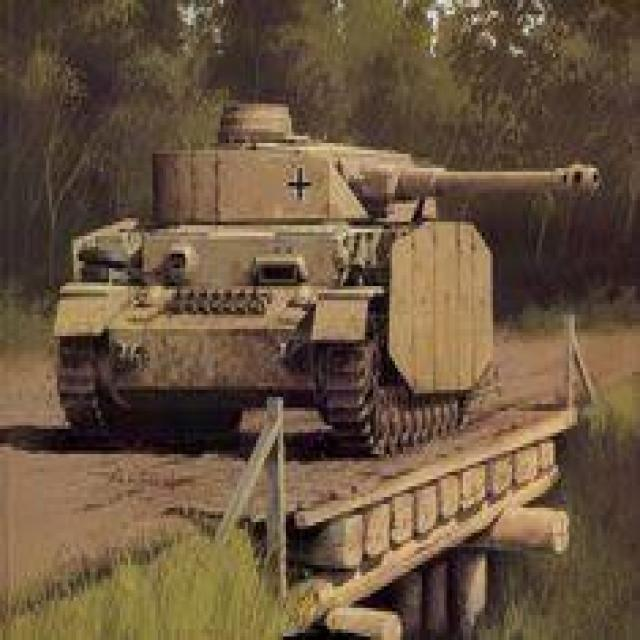Tanks: (22, 93, 610, 465)
